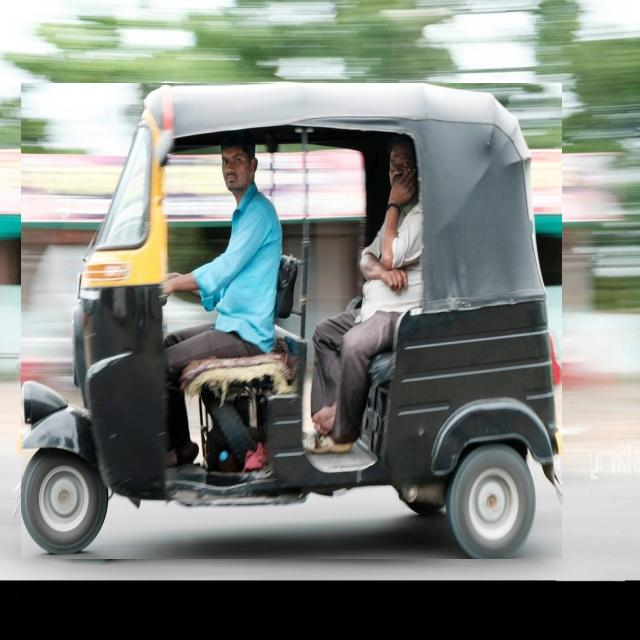autorickshaw: (21, 84, 561, 559)
